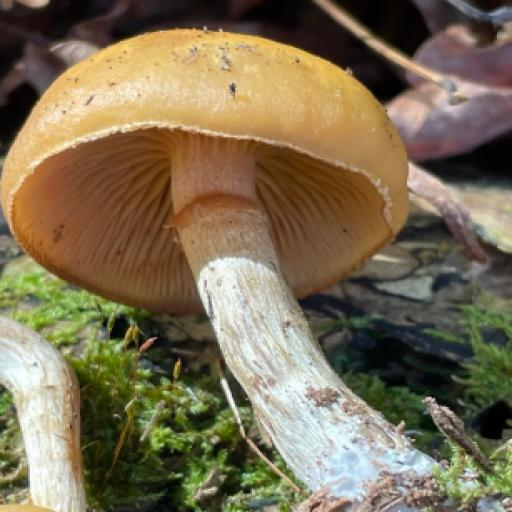mushroom: (6, 20, 423, 423)
